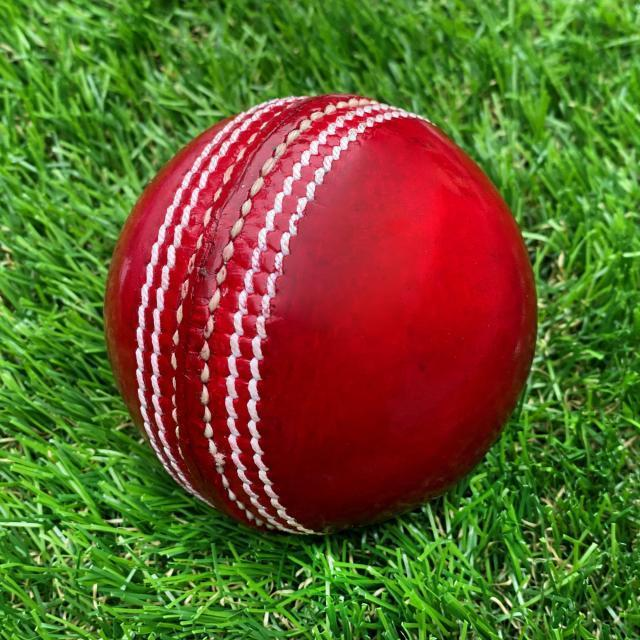cricket ball: (104, 94, 538, 536)
